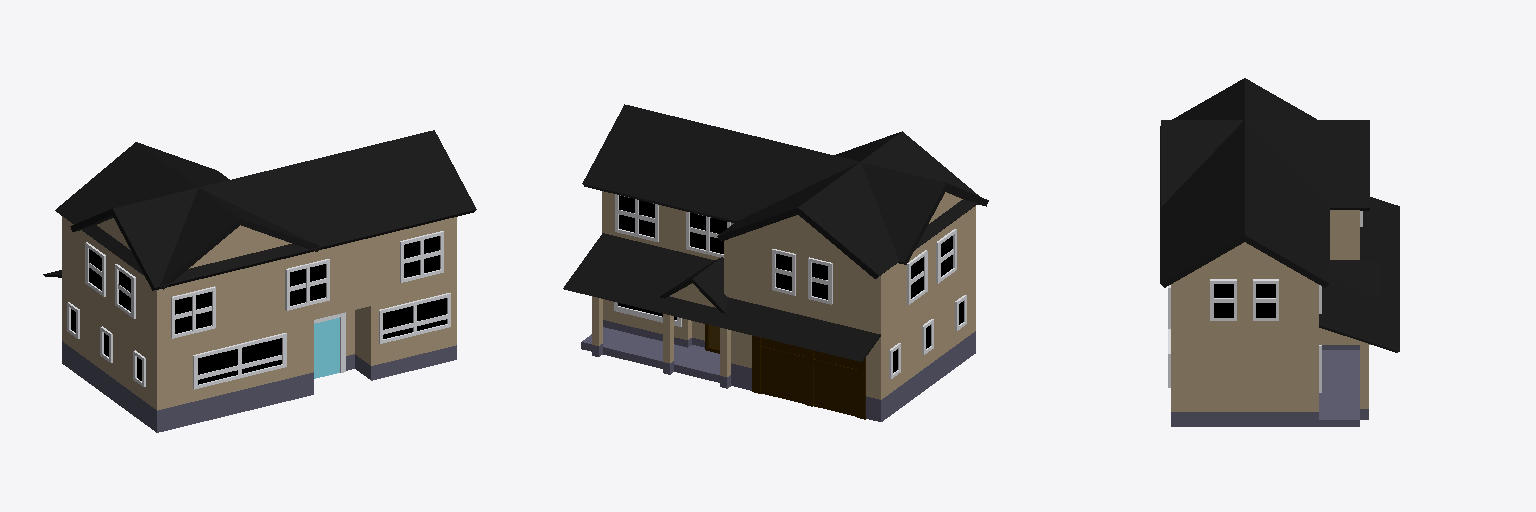
File: House1.obj
3 views of the same model, side by side, from view 1: azimuth 30°, elevation 25°; view 2: azimuth 150°, elevation 25°; view 3: azimuth 270°, elevation 25° (orthographic).
Bounding box in the file's own units: 4.51 × 2.66 × 2.9.